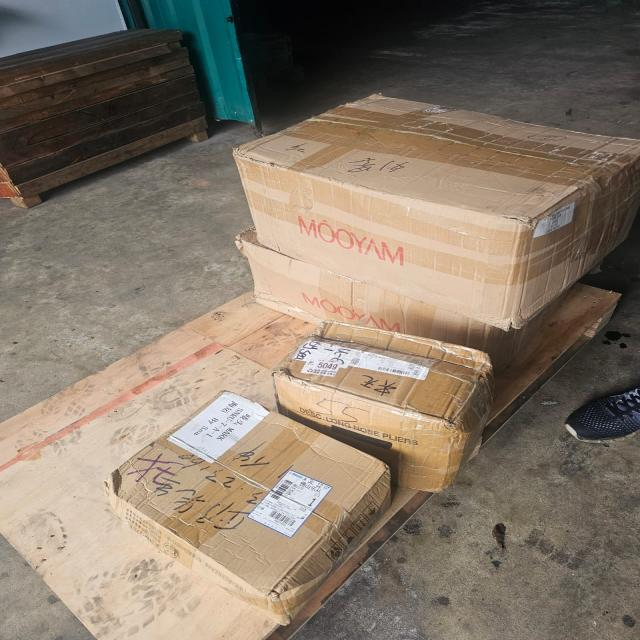carton_box: (213, 86, 640, 328), (113, 376, 400, 625), (265, 323, 519, 491)
export_mark_label: (284, 331, 446, 389), (150, 391, 280, 453), (256, 468, 331, 533)
